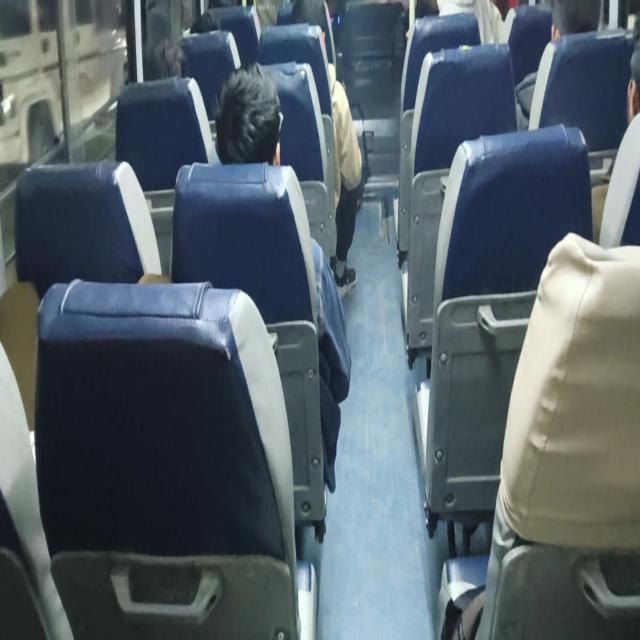person: (223, 69, 279, 157), (286, 2, 342, 47), (537, 0, 585, 52), (622, 39, 640, 152), (186, 14, 223, 48)
